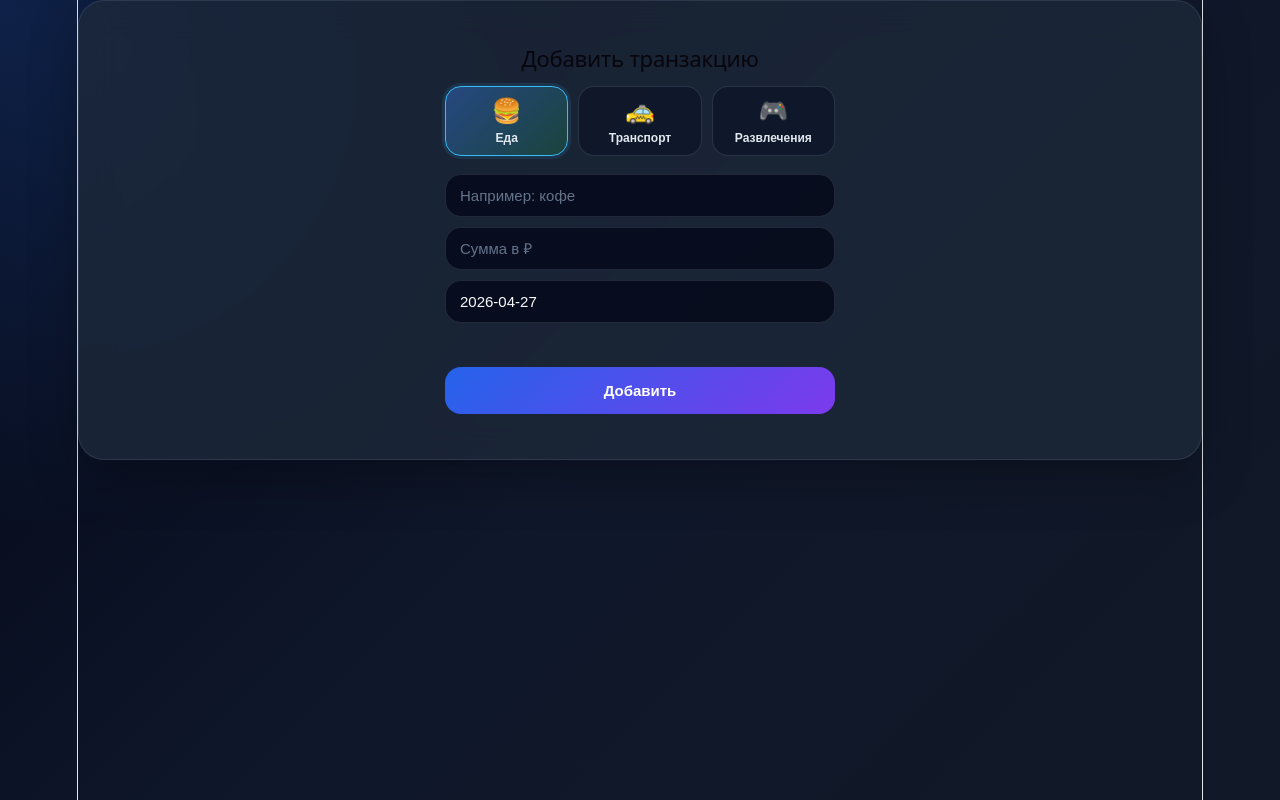
Test: AddTransaction Component › показывает ошибку, если сумма отрицательная
The image size is (1280, 800).
Type "Кофе" into the field with placeholder "Например: кофе" at [640, 196], box [445, 174, 835, 217]
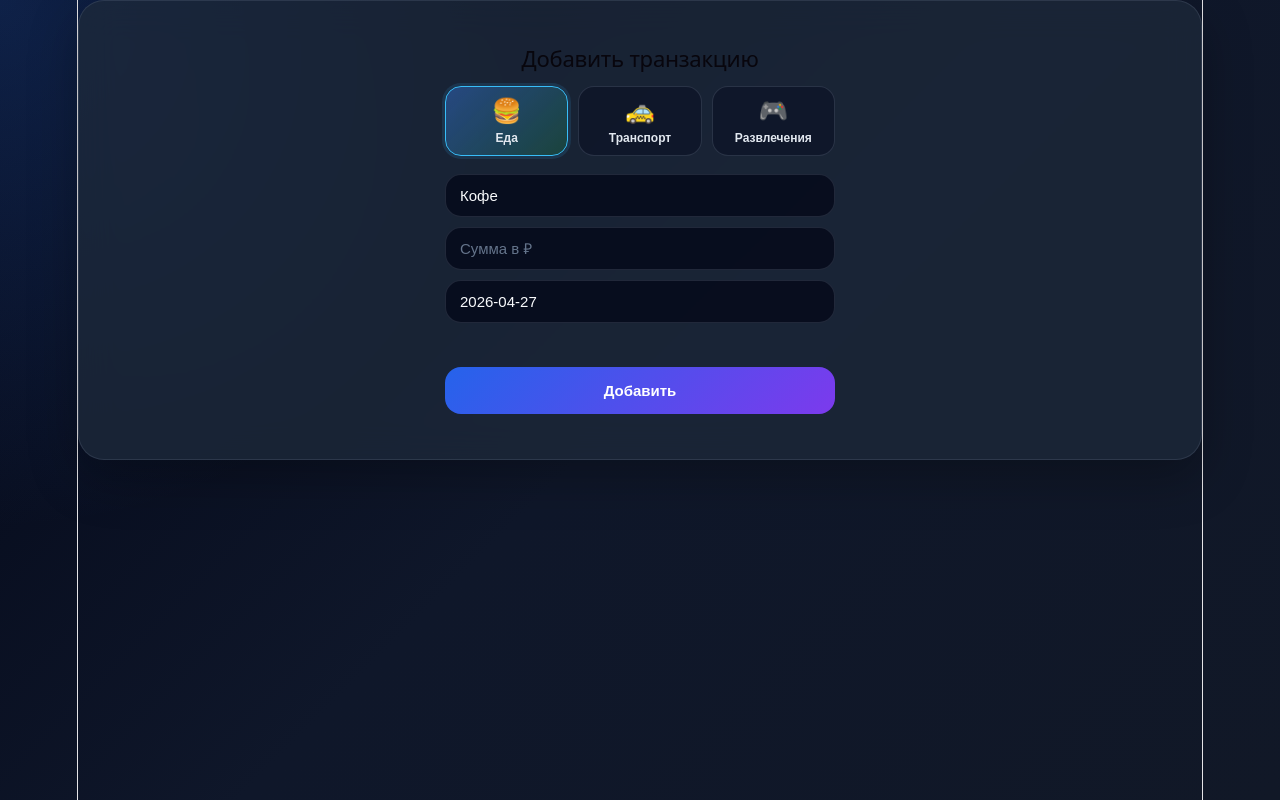
Type "-100" into the number field with placeholder "Сумма в ₽" at [640, 248], box [445, 227, 835, 270]
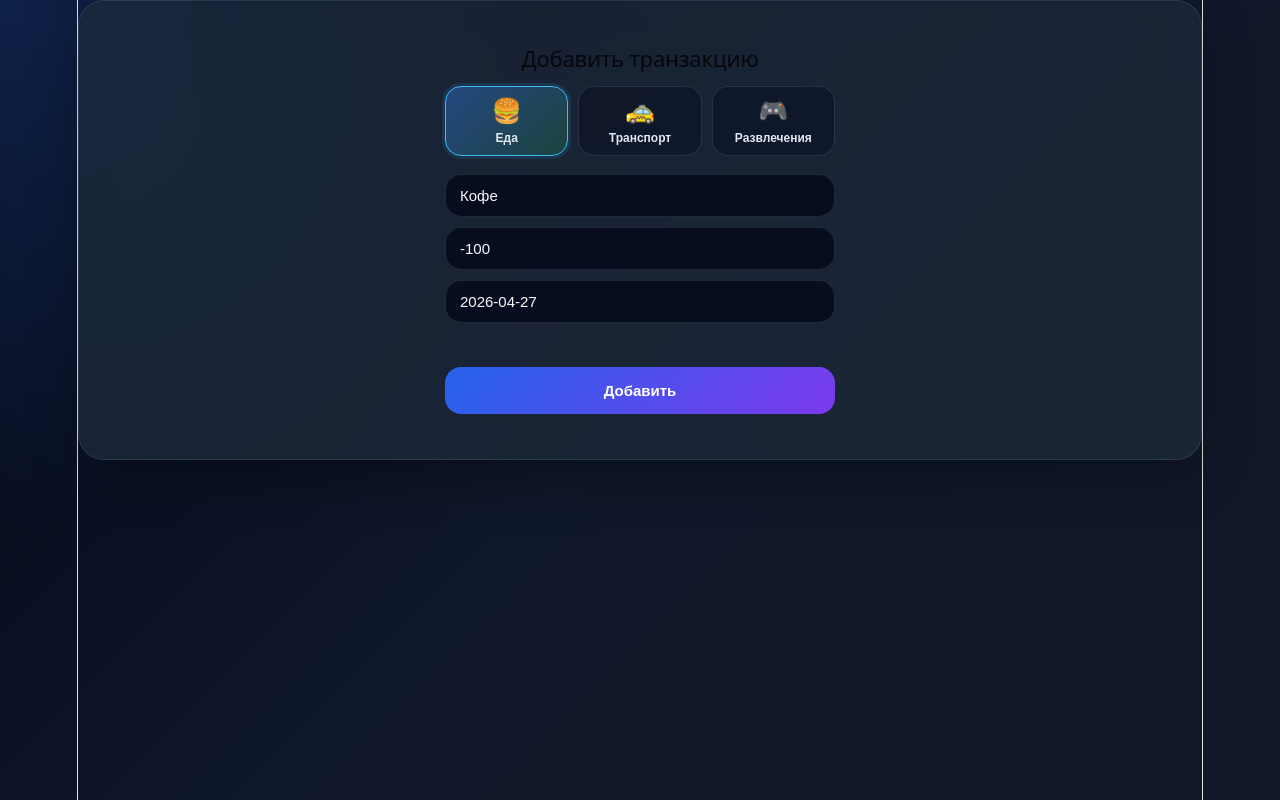
Click the button "Добавить" at [640, 390], box [445, 367, 835, 414]
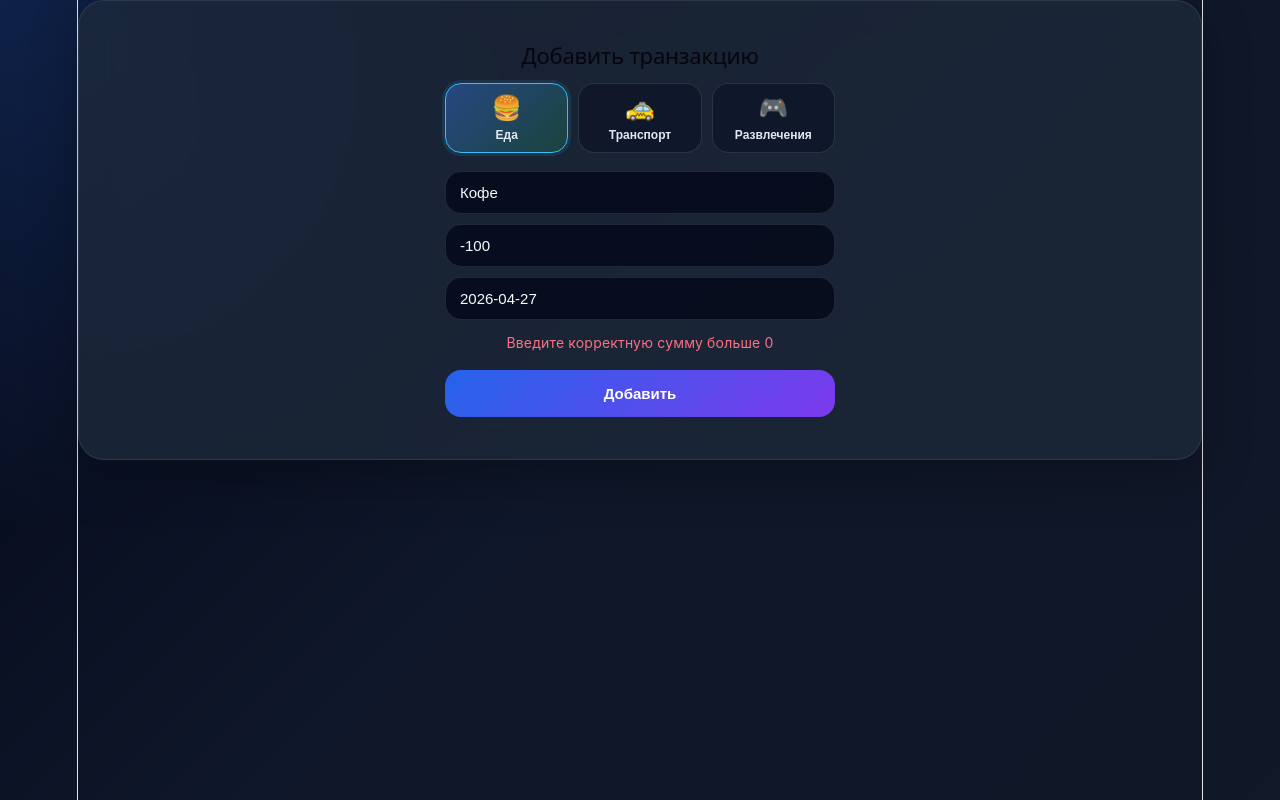
Check: the text "Введите корректную сумму больше 0" is shown, box [506, 334, 774, 351]
